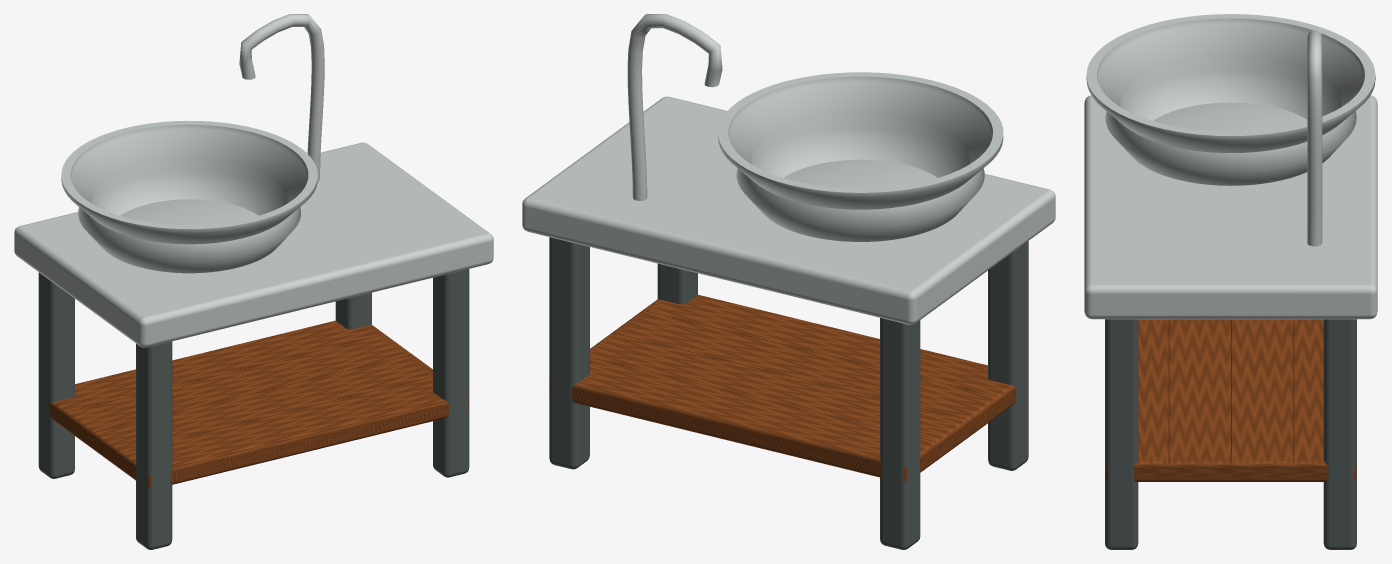
Rendered from ceramics-pottery-studio-reclaim-sink-77ef6da9__29493.glb.
3 renders of one model, left to right at view 1: azimuth 30°, elevation 25°; view 2: azimuth 150°, elevation 25°; view 3: azimuth 270°, elevation 25°, orthographic. The views are drawn at different scales.
Visible parts, largest first — view 1: reclaim-sink; view 2: reclaim-sink; view 3: reclaim-sink.
Boxes of the visible parts, x1=… form: reclaim-sink: x1=14, y1=14, x2=493, y2=549; reclaim-sink: x1=522, y1=14, x2=1055, y2=549; reclaim-sink: x1=1084, y1=14, x2=1377, y2=549.
Size of the model in its own units: 1.1 by 1.22 by 0.6999.
3 materials, 1 textured.
